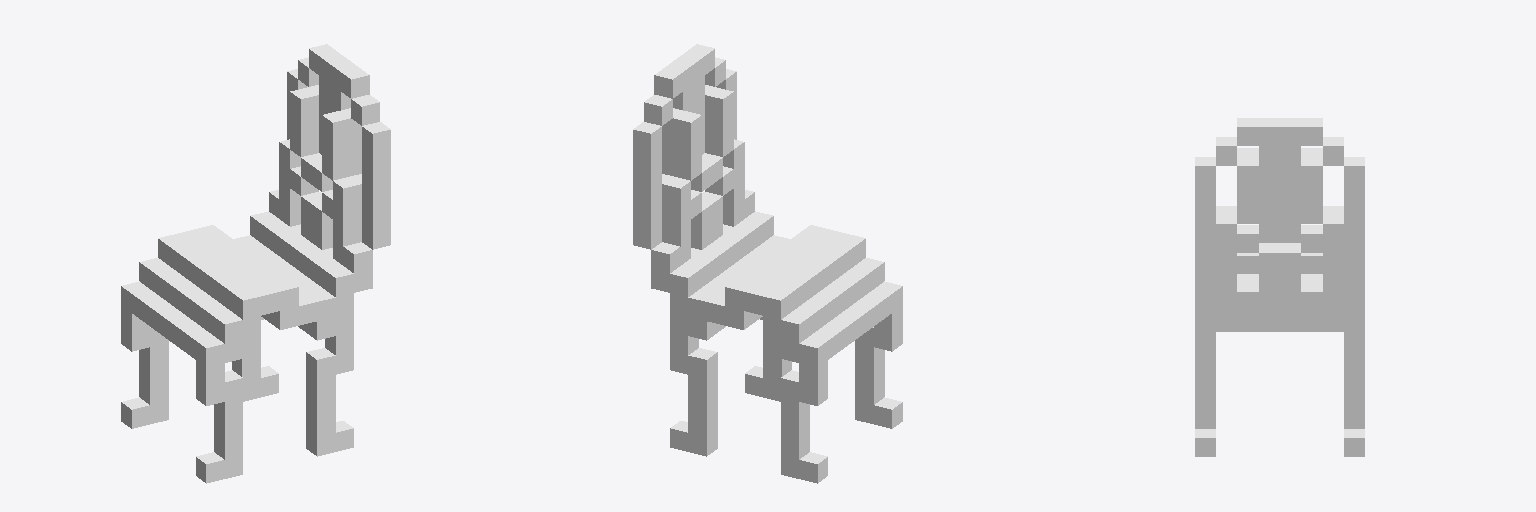
The model's file is Desert-39-Princess_Chair.obj.
The picture shows the model from 3 angles: view 1: azimuth 30°, elevation 25°; view 2: azimuth 150°, elevation 25°; view 3: azimuth 270°, elevation 25°; orthographic projection.
Parts seen in each view (by area): view 1: Princess_Chair; view 2: Princess_Chair; view 3: Princess_Chair.
Boxes of the visible parts, x1,y1,x2,y2 form: Princess_Chair: [121, 44, 390, 483]; Princess_Chair: [633, 44, 902, 483]; Princess_Chair: [1195, 118, 1364, 456].
Bounding box in the file's own units: 1 × 1.8 × 0.8.